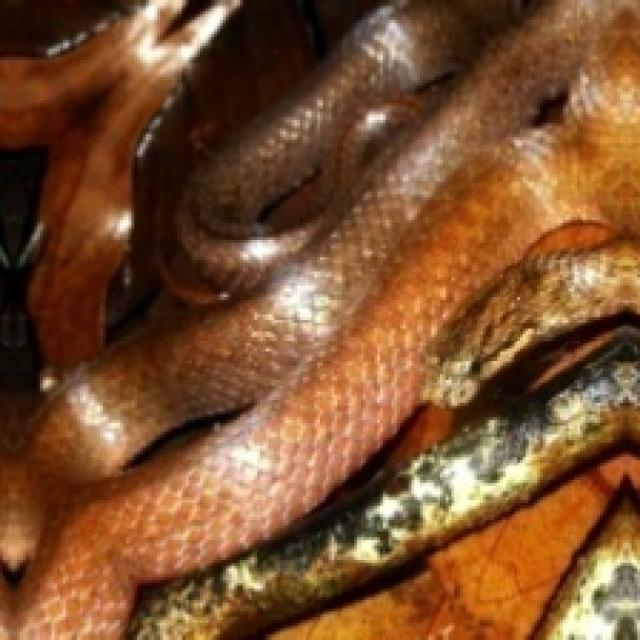reinhardts lined snake: (0, 0, 637, 637)
